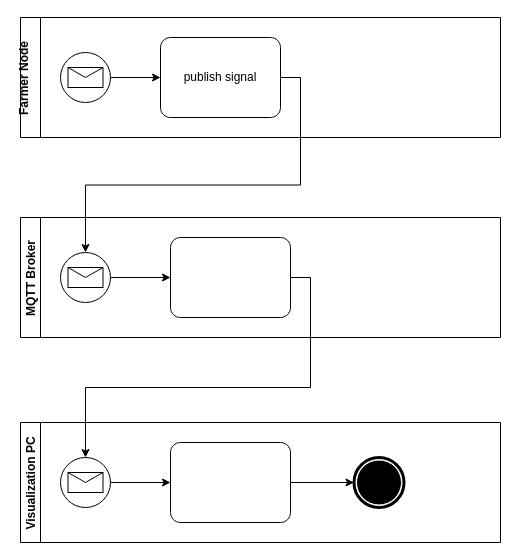
The diagram is 518 pixels wide and 560 high, and some of its shapes have lost their labels. The centre of each missing label's shape, as x and y in pixels:
compensate offset: point (230, 482)
publish signal to subsriber: point (230, 277)
